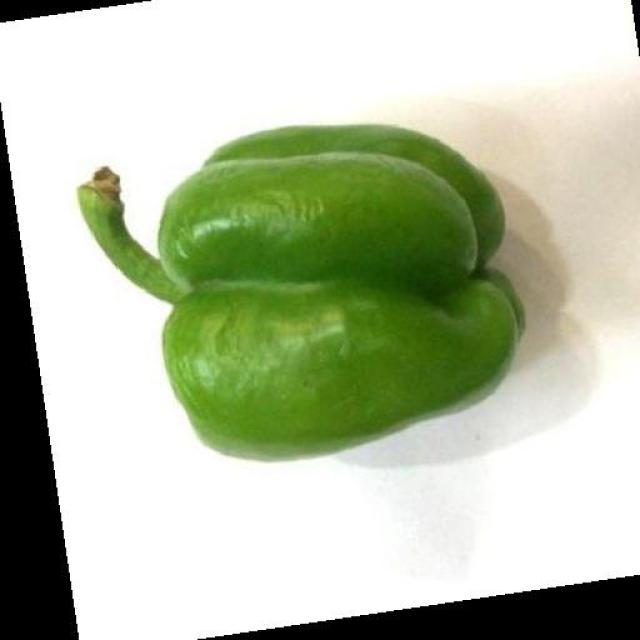Fresh_Capsicum: (99, 125, 525, 419)
